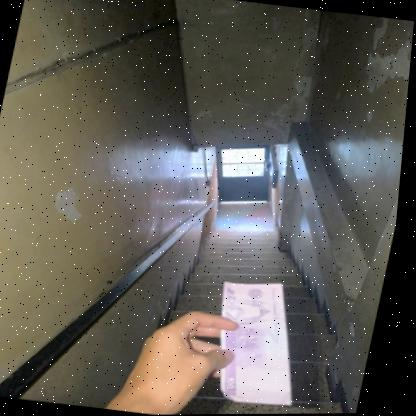one_hundred-back-vef: (205, 274, 322, 409)
